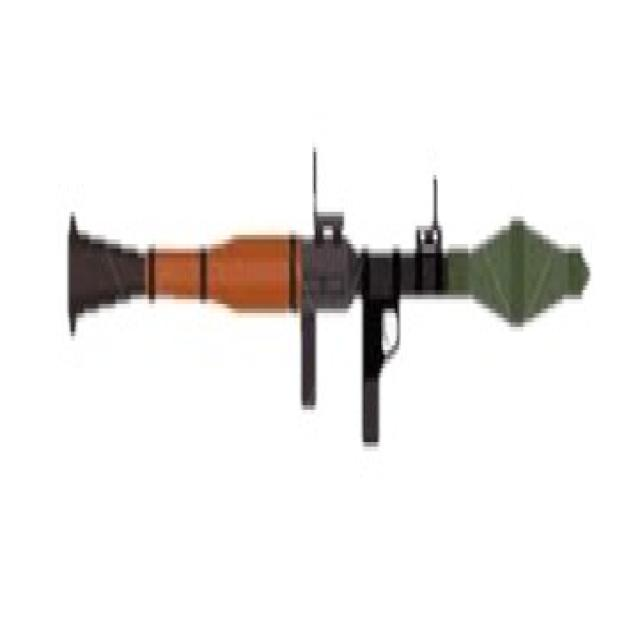bazooka: (63, 125, 595, 465)
